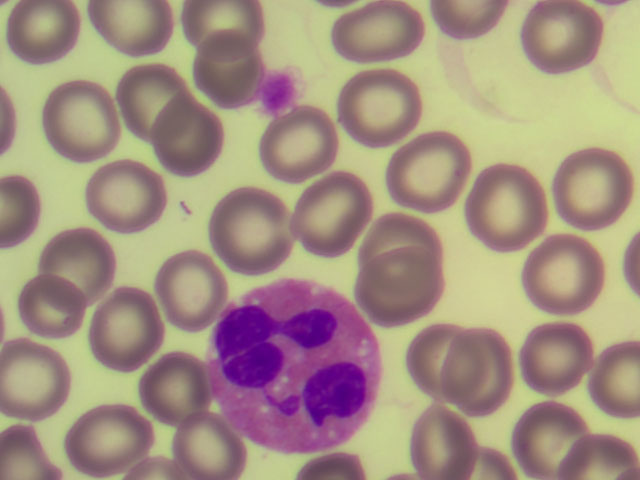Platelets: (259, 69, 299, 112)
RBC: (70, 400, 152, 480), (168, 400, 250, 480), (403, 400, 485, 480), (505, 400, 587, 480), (43, 82, 125, 161), (85, 157, 167, 236), (44, 217, 126, 296), (14, 262, 96, 341), (85, 293, 167, 372), (131, 345, 213, 424), (151, 254, 233, 333), (208, 192, 290, 271), (161, 104, 243, 183), (117, 57, 199, 136), (184, 31, 266, 110), (90, 2, 172, 81), (290, 175, 372, 254), (253, 105, 335, 184), (339, 68, 421, 147), (345, 1, 427, 80), (383, 131, 465, 210), (352, 200, 434, 279), (360, 251, 442, 330), (394, 321, 476, 400), (435, 335, 517, 414), (521, 317, 603, 396), (522, 234, 604, 313), (470, 164, 552, 243), (551, 155, 633, 234), (1, 336, 82, 415), (2, 1, 84, 79), (524, 1, 606, 79)
WBC: (214, 284, 379, 451)
